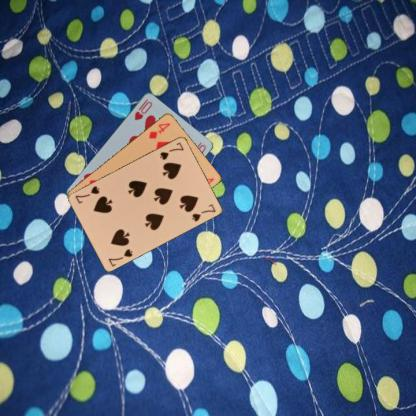10h: (132, 96, 154, 122)
4d: (146, 120, 172, 140)
7s: (157, 139, 185, 161), (106, 246, 134, 268)
